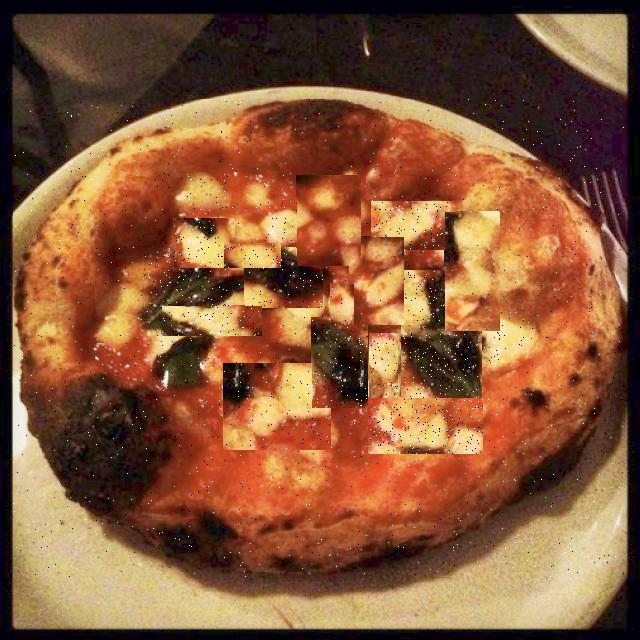Basil: (402, 271, 482, 414), (144, 252, 232, 323), (312, 318, 368, 408), (245, 248, 323, 308), (158, 334, 208, 389)
Cheese: (224, 364, 331, 450), (445, 212, 500, 331), (369, 398, 483, 454), (297, 176, 361, 266), (350, 237, 404, 325), (372, 202, 455, 250), (476, 306, 534, 363), (162, 306, 262, 336), (174, 219, 235, 268), (172, 174, 230, 217), (256, 201, 315, 243), (370, 334, 398, 412), (224, 244, 281, 268), (331, 284, 354, 325)
Pizza: (14, 100, 624, 577)
